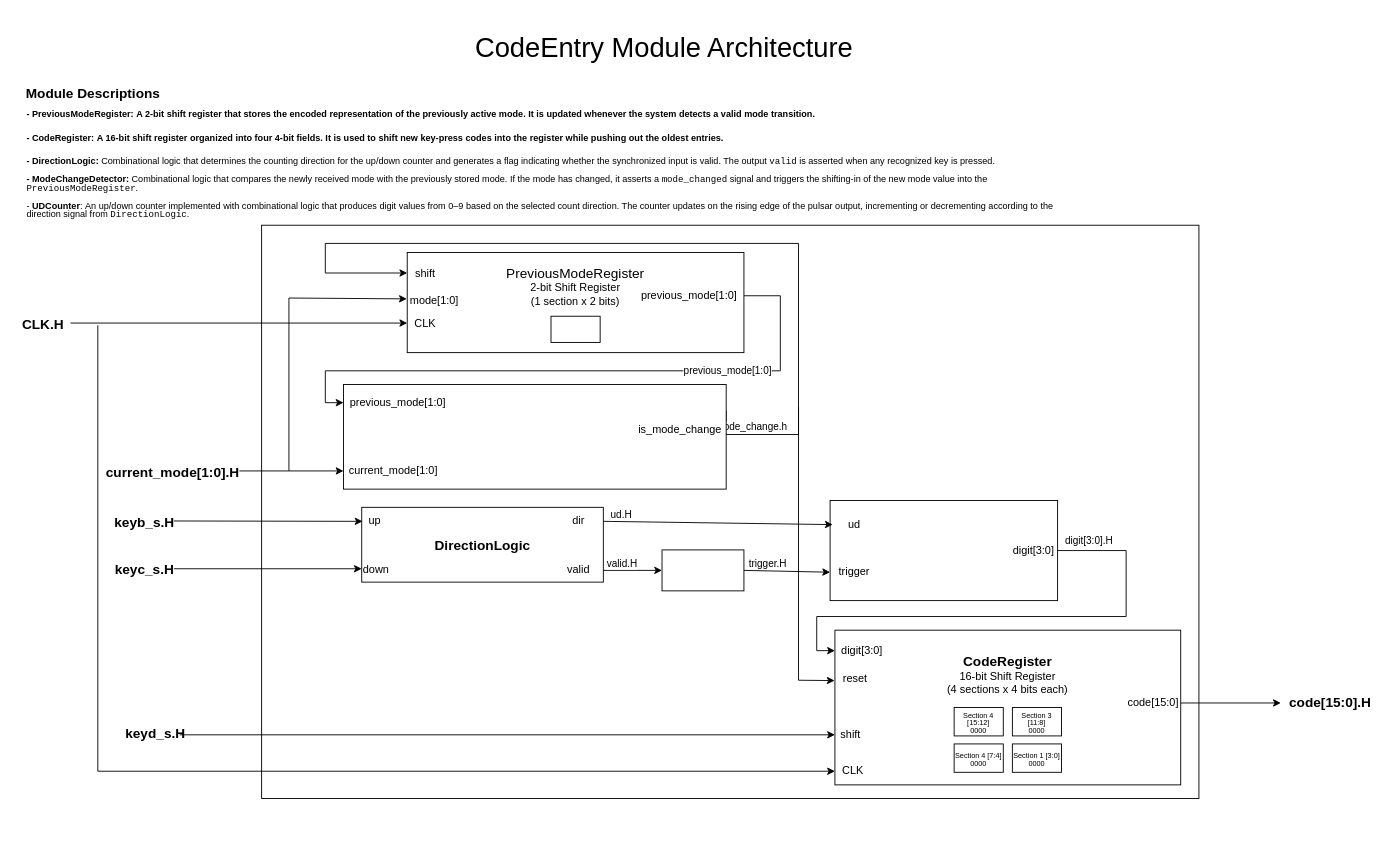
The diagram is 1386 pixels wide and 843 high, and some of its shapes have lost their labels. Each missing label, with the box of its shape:
ModeChangeDetector: (343, 384, 726, 489)
Section 1 [1:0] 00: (550, 315, 600, 342)
SinglePulsar: (661, 549, 744, 591)
UDCounter: (829, 500, 1058, 601)
